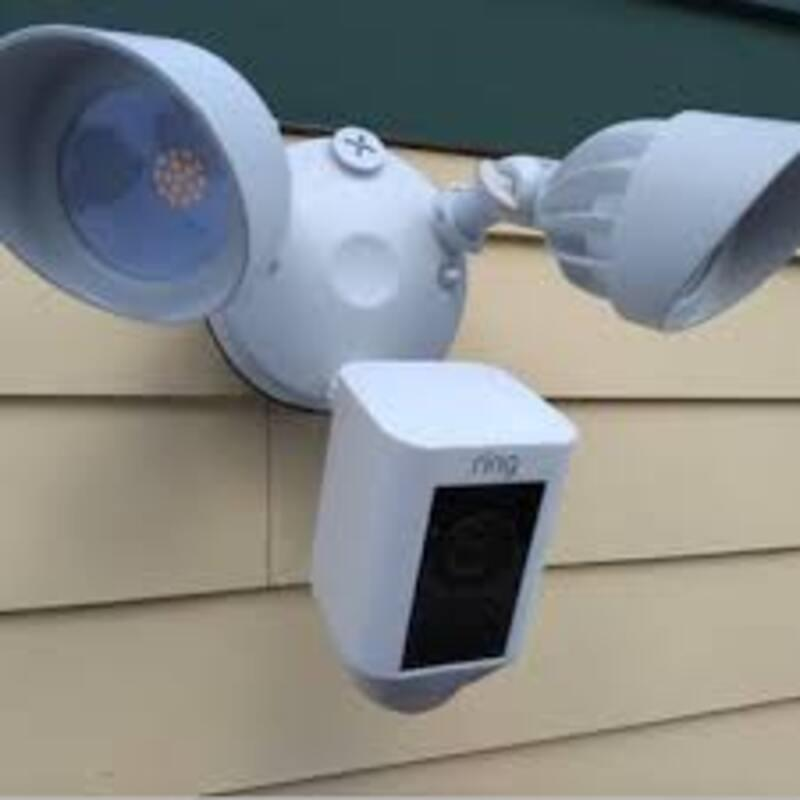bullet: (320, 365, 557, 719)
